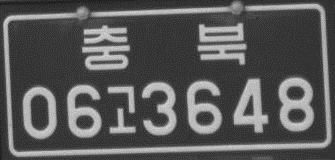0: (21, 83, 59, 142)
3: (141, 79, 177, 137)
4: (231, 77, 271, 134)
6: (65, 81, 103, 140), (186, 79, 224, 137)
8: (277, 74, 317, 133)
고: (105, 83, 139, 137)
충북_D: (79, 19, 249, 73)
